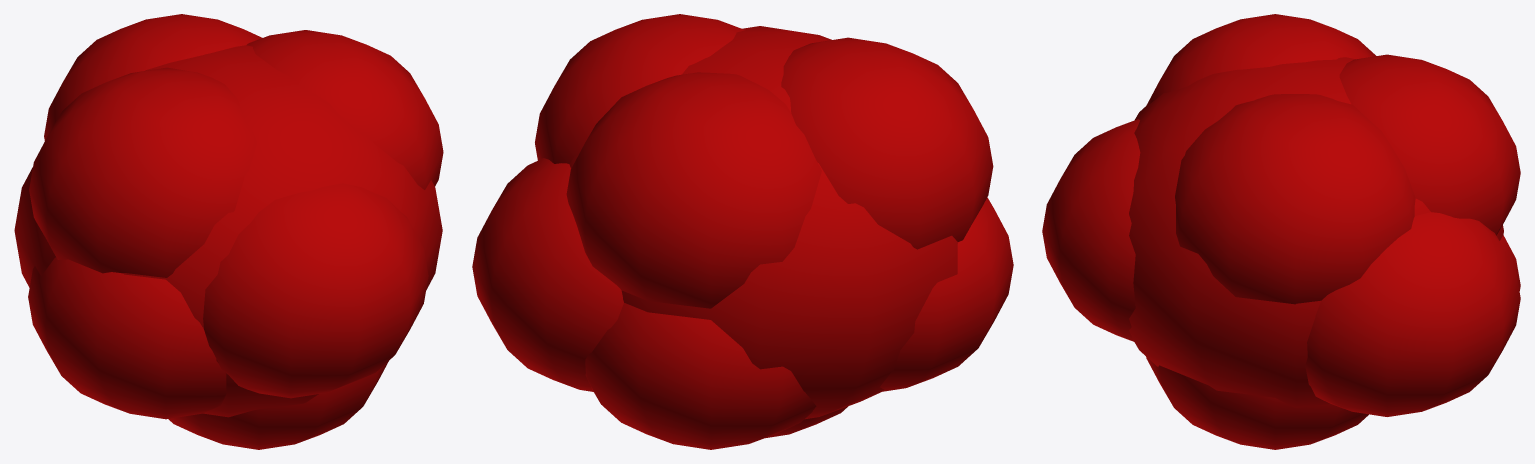
Rendered from blobball.fbx.
The picture shows the model from 3 angles, left to right: view 1: azimuth 30°, elevation 25°; view 2: azimuth 150°, elevation 25°; view 3: azimuth 270°, elevation 25°; orthographic projection. The views are drawn at different scales.
Parts seen in each view (by area): view 1: pSphere10; view 2: pSphere10; view 3: pSphere10.
Boxes of the visible parts, bbox=[...] form: pSphere10: bbox=[14, 14, 443, 449]; pSphere10: bbox=[472, 14, 1013, 449]; pSphere10: bbox=[1042, 14, 1520, 449].
Bounding box in the file's own units: 1.86 × 1.61 × 1.93.
